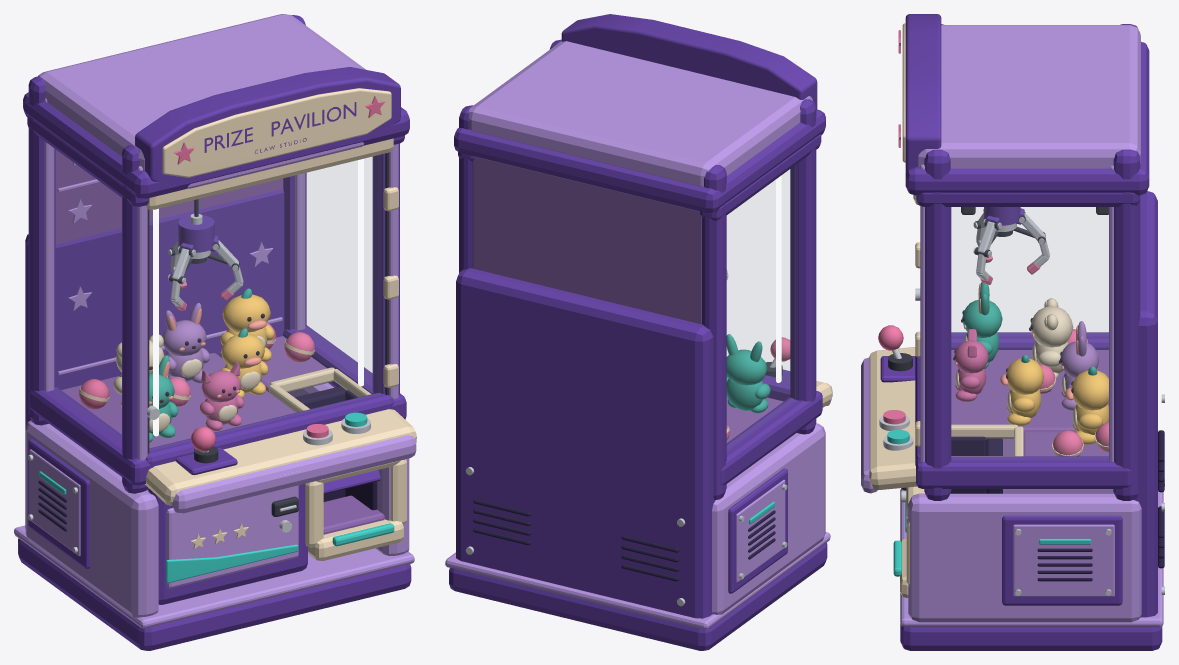
The model's file is mall-claw-prize-machine.glb.
3 renders of one model, left to right at view 1: azimuth 30°, elevation 25°; view 2: azimuth 150°, elevation 25°; view 3: azimuth 270°, elevation 25°, orthographic. The views are drawn at different scales.
Visible parts, largest first — view 1: Shell and service hardware | Indigo violet structural enamel, Shell and service hardware | Lilac molded fascias, Shell and service hardware | Vanilla powder coat, Glazing and light bars | Anti-reflective clear acrylic, Prize drop and collection tunnel | Lilac prize bed felt, Joystick and buttons | Vanilla powder coat, Prize drop and collection tunnel | Vanilla powder coat, Joystick and buttons | Lilac molded fascias, Glazing and light bars | Lilac prize bed felt, Original toy sculptures | Butter plush, Glazing and light bars | Cool white showcase diffusers, Original toy sculptures | Heather plush (+19 smaller); view 2: Shell and service hardware | Indigo violet structural enamel, Shell and service hardware | Lilac molded fascias, Glazing and light bars | Lilac prize bed felt, Glazing and light bars | Anti-reflective clear acrylic, Shell and service hardware | Deep amethyst shadow lining, Original toy sculptures | Lagoon plush, Glazing and light bars | Cool white showcase diffusers, Prize drop and collection tunnel | Lilac prize bed felt; view 3: Shell and service hardware | Lilac molded fascias, Shell and service hardware | Indigo violet structural enamel, Glazing and light bars | Anti-reflective clear acrylic, Prize drop and collection tunnel | Lilac prize bed felt, Joystick and buttons | Vanilla powder coat, Original toy sculptures | Butter plush, Original toy sculptures | Cream plush, Prize drop and collection tunnel | Vanilla powder coat, Shell and service hardware | Deep amethyst shadow lining, Original toy sculptures | Lagoon plush, Original toy sculptures | Berry plush, Claw links and pivot hardware | Satin cast aluminum (+11 smaller).
Boxes of the visible parts, x1,y1,x2,y2 form: Shell and service hardware | Indigo violet structural enamel: (18,15,411,650); Shell and service hardware | Lilac molded fascias: (14,14,414,628); Shell and service hardware | Vanilla powder coat: (146,88,393,549); Glazing and light bars | Anti-reflective clear acrylic: (302,157,372,379); Prize drop and collection tunnel | Lilac prize bed felt: (61,336,384,534); Joystick and buttons | Vanilla powder coat: (144,409,416,505); Prize drop and collection tunnel | Vanilla powder coat: (269,367,406,560); Joystick and buttons | Lilac molded fascias: (172,435,416,513); Glazing and light bars | Lilac prize bed felt: (55,149,283,244); Original toy sculptures | Butter plush: (220,294,274,398); Glazing and light bars | Cool white showcase diffusers: (153,158,363,436); Original toy sculptures | Heather plush: (162,303,209,383); Shell and service hardware | Indigo violet structural enamel: (449,14,827,650); Shell and service hardware | Lilac molded fascias: (445,41,830,629); Glazing and light bars | Lilac prize bed felt: (472,156,701,324); Glazing and light bars | Anti-reflective clear acrylic: (727,170,789,383); Shell and service hardware | Deep amethyst shadow lining: (473,499,775,581); Original toy sculptures | Lagoon plush: (726,334,770,413); Glazing and light bars | Cool white showcase diffusers: (776,175,781,382); Prize drop and collection tunnel | Lilac prize bed felt: (726,396,783,442); Shell and service hardware | Lilac molded fascias: (900,25,1163,627); Shell and service hardware | Indigo violet structural enamel: (900,14,1162,650); Glazing and light bars | Anti-reflective clear acrylic: (952,207,1108,335); Prize drop and collection tunnel | Lilac prize bed felt: (951,350,1108,456); Joystick and buttons | Vanilla powder coat: (869,347,917,489); Original toy sculptures | Butter plush: (1006,358,1108,444); Original toy sculptures | Cream plush: (955,298,1077,428); Prize drop and collection tunnel | Vanilla powder coat: (900,424,1023,597); Shell and service hardware | Deep amethyst shadow lining: (1037,430,1164,581); Original toy sculptures | Lagoon plush: (962,281,1097,375); Original toy sculptures | Berry plush: (954,329,988,401); Claw links and pivot hardware | Satin cast aluminum: (973,209,1049,280).
Size of the model in its own units: 1.23 by 2.11 by 1.09.
